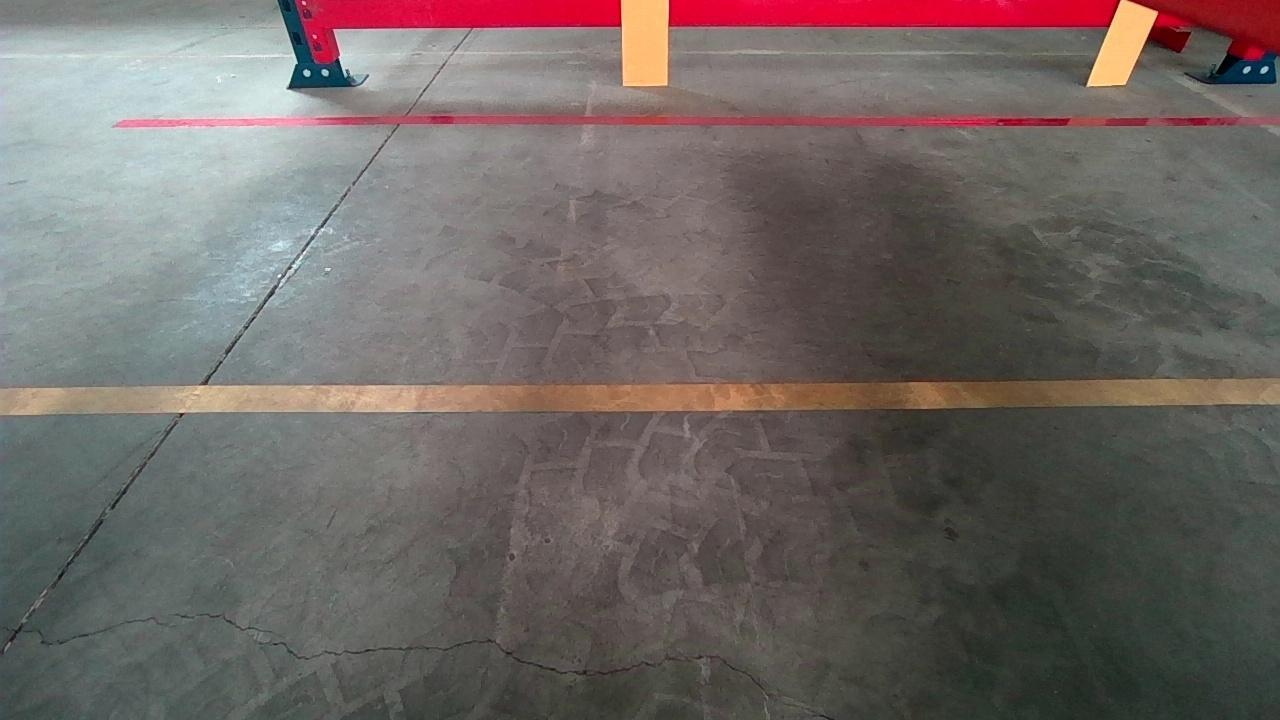h_rack: (322, 0, 1203, 29)
orange_strip: (1088, 2, 1160, 82), (622, 0, 670, 83)
red_line: (112, 114, 1280, 128)
